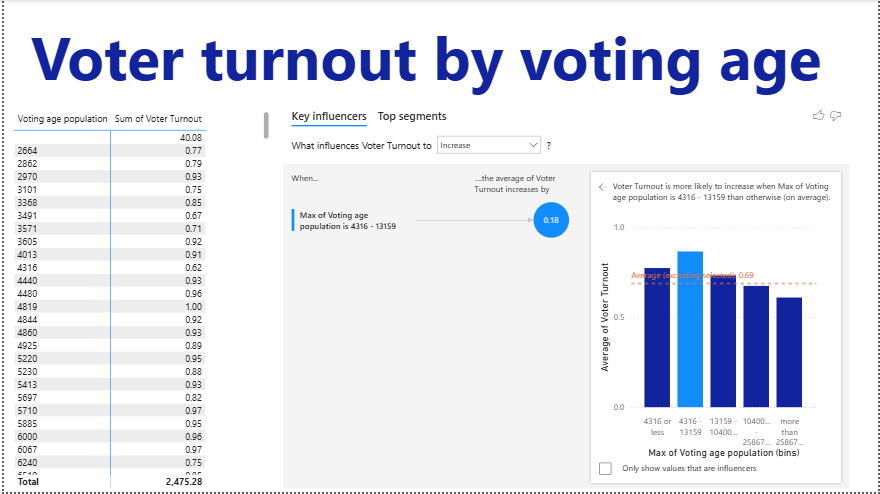

The dashboard page shown, as its layout file describes it:
{"tool":"powerbi","page":{"name":"Page 4","canvas":[1280,720],"ordinal":3},"visuals":[{"type":"textbox","box":[9.7,0,1270.8,158.3],"z":0},{"type":"keyDriversVisual","fields":{"Target":["cleaned_voter_turnout_with_country.Voter Turnout"],"ExplainBy":["Max(cleaned_voter_turnout_with_country.Voting age population)"]},"box":[404.2,144.4,837.5,575],"z":1000},{"type":"pivotTable","fields":{"Rows":["cleaned_voter_turnout_with_country.Voting age population"],"Values":["Sum(cleaned_voter_turnout_with_country.Voter Turnout)"]},"box":[9.7,158.3,383.3,561.1],"z":2000}]}

Visuals, with their boxes in screenshot pixels (x1, y1, x2, y2), scaled from the page's 1280x720 canvas onto the 880x494 screenshot:
textbox: region(7, 0, 879, 109)
keyDriversVisual - cleaned_voter_turnout_with_country.Voter Turnout x Max(cleaned_voter_turnout_with_country.Voting age population): region(278, 99, 854, 493)
pivotTable - cleaned_voter_turnout_with_country.Voting age population x Sum(cleaned_voter_turnout_with_country.Voter Turnout): region(7, 109, 270, 493)
